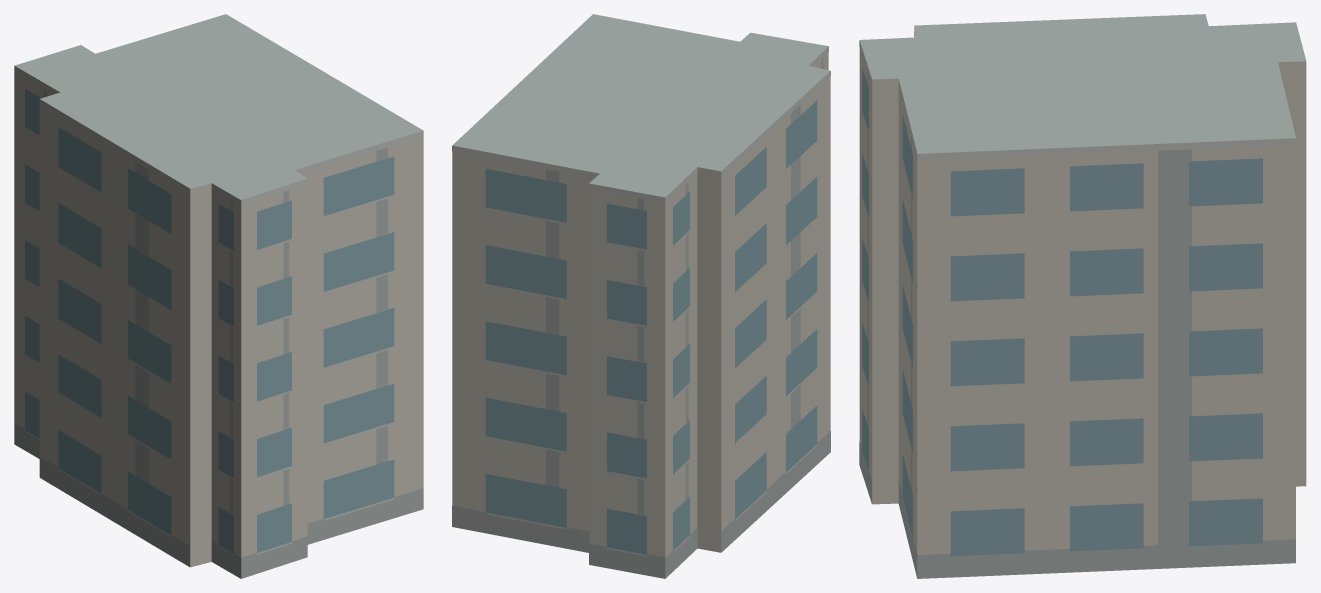
Rendered from survey-upis-32720336.glb.
3 renders of one model, left to right at view 1: azimuth 30°, elevation 25°; view 2: azimuth 150°, elevation 25°; view 3: azimuth 270°, elevation 25°, orthographic. The views are drawn at different scales.
Visible parts, largest first — view 1: survey-upis-32720336.tmp; view 2: survey-upis-32720336.tmp; view 3: survey-upis-32720336.tmp.
Boxes of the visible parts, left/top/right/bottom form: survey-upis-32720336.tmp: left=14, top=14, right=423, bottom=578; survey-upis-32720336.tmp: left=452, top=14, right=830, bottom=578; survey-upis-32720336.tmp: left=859, top=14, right=1306, bottom=578.
Bounding box in the file's own units: 10.88 × 15.4 × 14.69.
